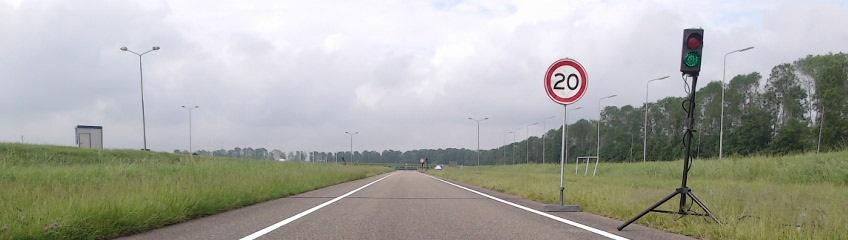Speed-limit-20km-h-: (544, 58, 588, 105)
TrafficLight-green: (681, 29, 703, 73)
